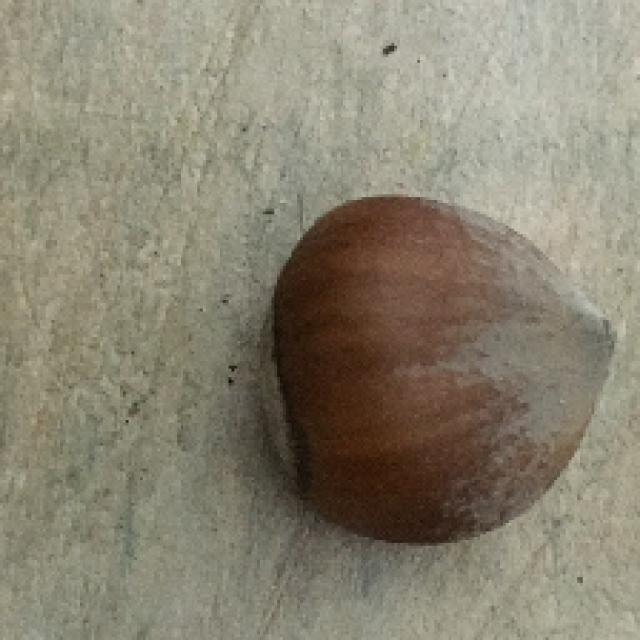qualityHazelnut: (252, 188, 621, 556)
